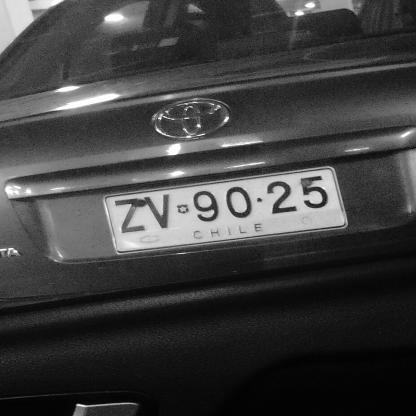Patente: (105, 167, 348, 252)
